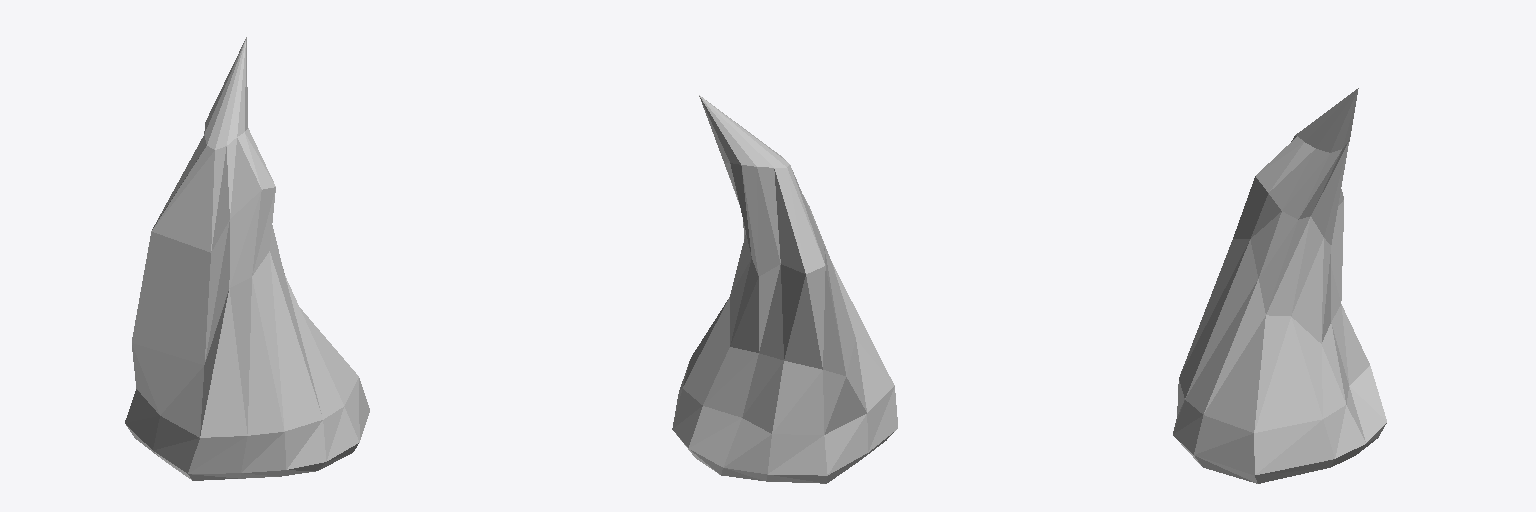
File: stalactite2.obj
3 renders of one model, left to right at view 1: azimuth 30°, elevation 25°; view 2: azimuth 150°, elevation 25°; view 3: azimuth 270°, elevation 25°, orthographic.
Visible parts, largest first — view 1: pCylinder1; view 2: pCylinder1; view 3: pCylinder1.
Boxes of the visible parts, x1=… form: pCylinder1: x1=125, y1=37, x2=369, y2=480; pCylinder1: x1=672, y1=95, x2=897, y2=483; pCylinder1: x1=1173, y1=88, x2=1386, y2=483.
Bounding box in the file's own units: 2.94 × 5.05 × 2.69.